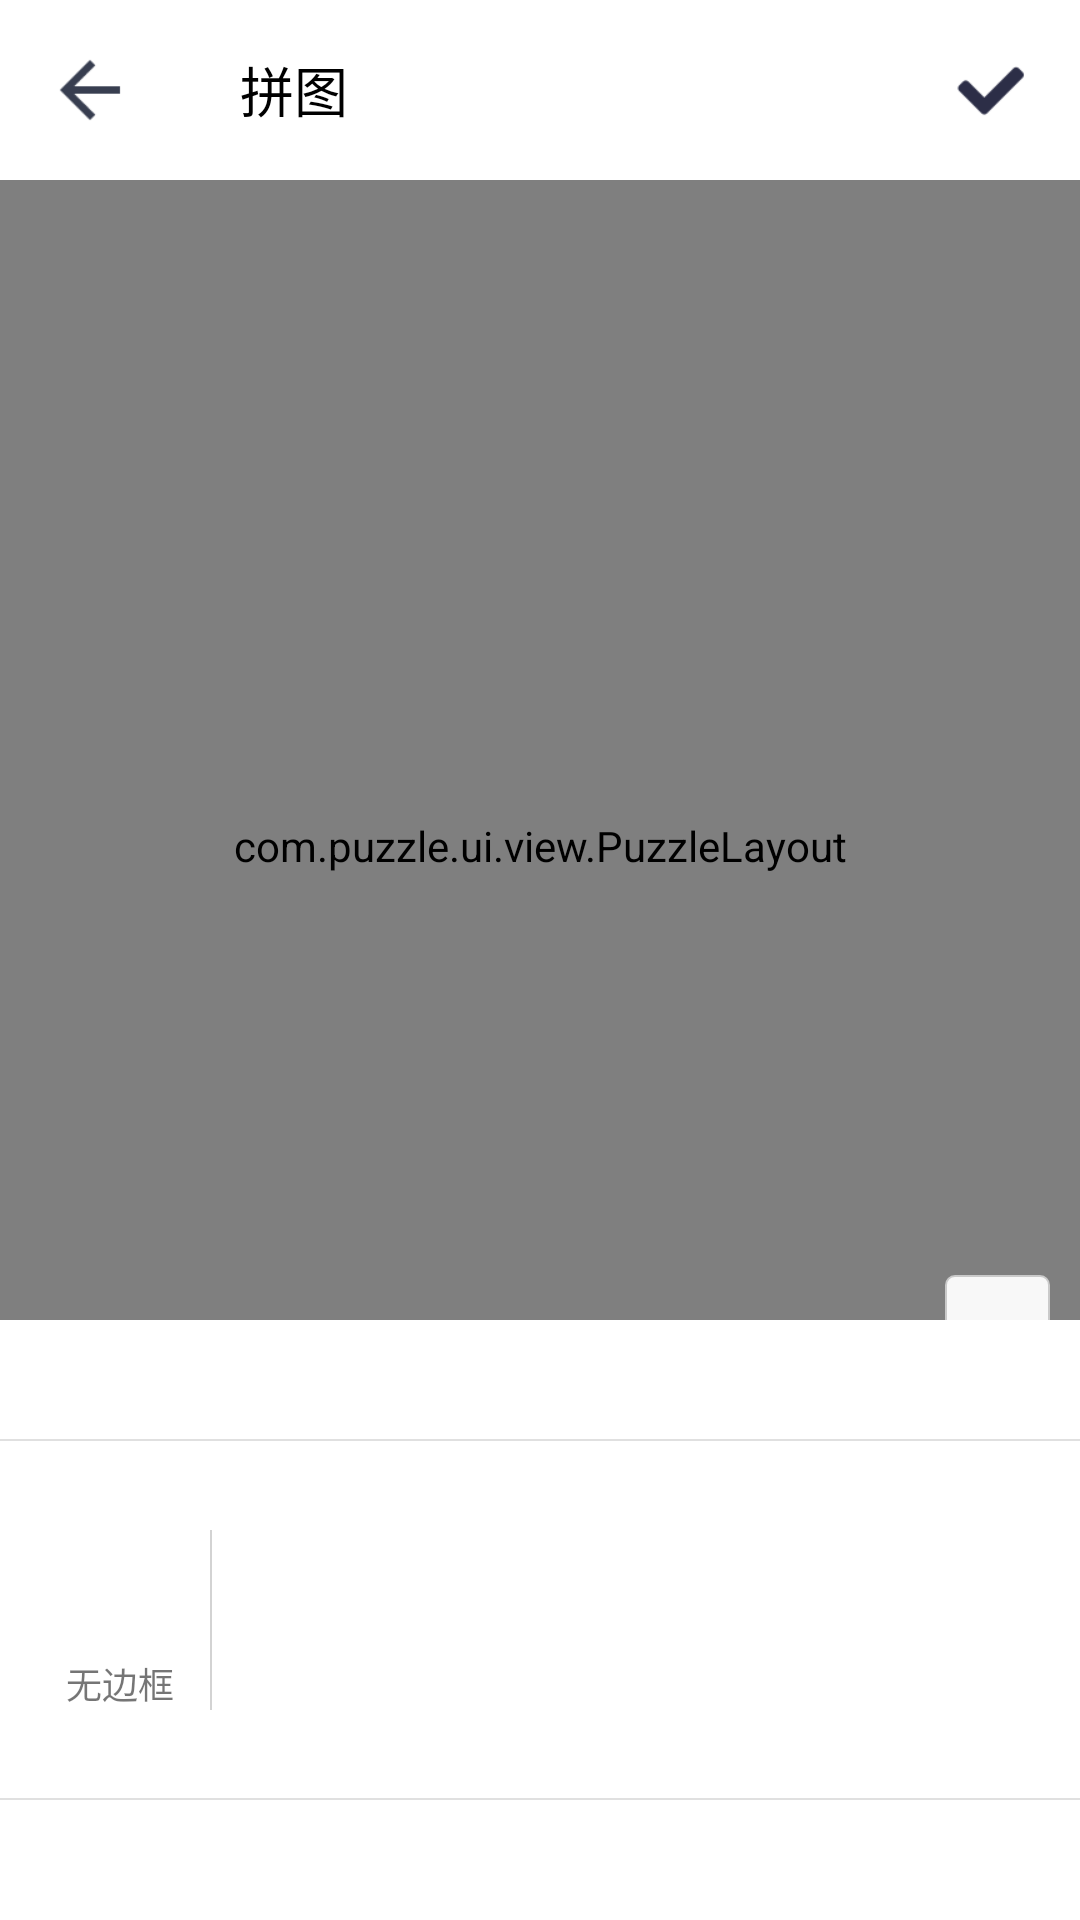

Icons on this 1080×1920 Android screen, each with its box as (x1, y1, x2, y2):
back: (60, 60, 120, 120)
finish: (957, 67, 1024, 115)
